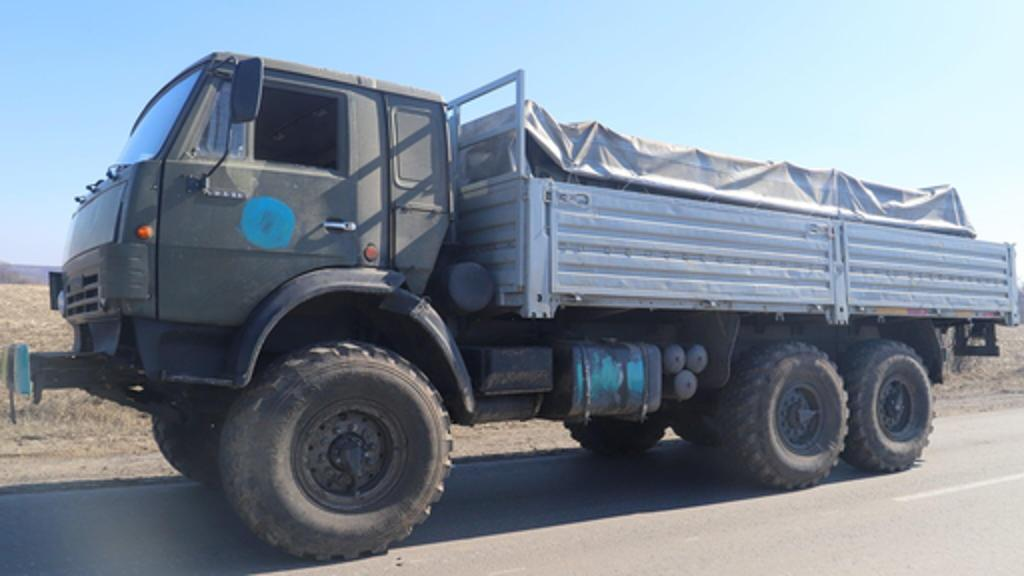TRUCK: (46, 42, 1016, 564)
